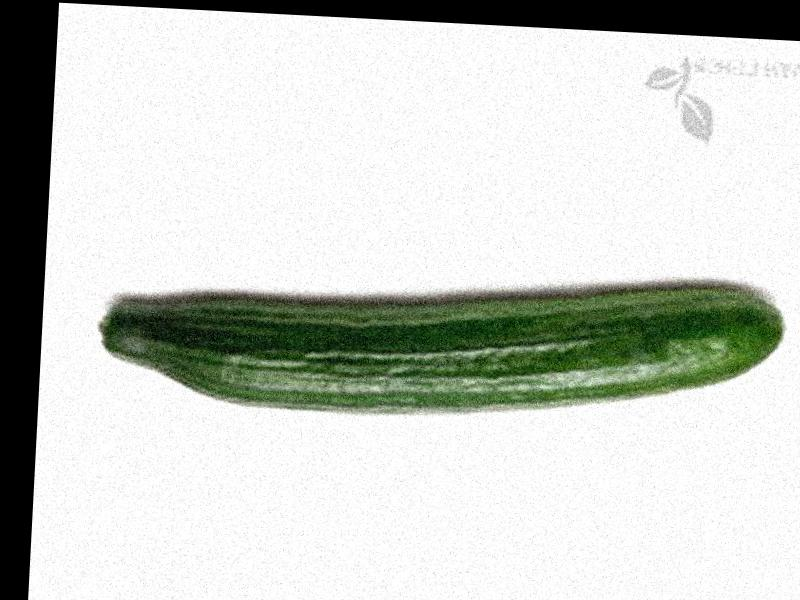Cucumber: (95, 255, 789, 434)
